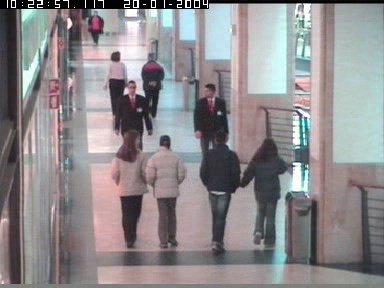person: (198, 133, 239, 253), (241, 140, 285, 247), (111, 129, 149, 247), (146, 135, 185, 246), (193, 81, 227, 154), (114, 80, 151, 139), (140, 52, 163, 118), (103, 52, 126, 116), (88, 10, 104, 44), (67, 16, 73, 53)
